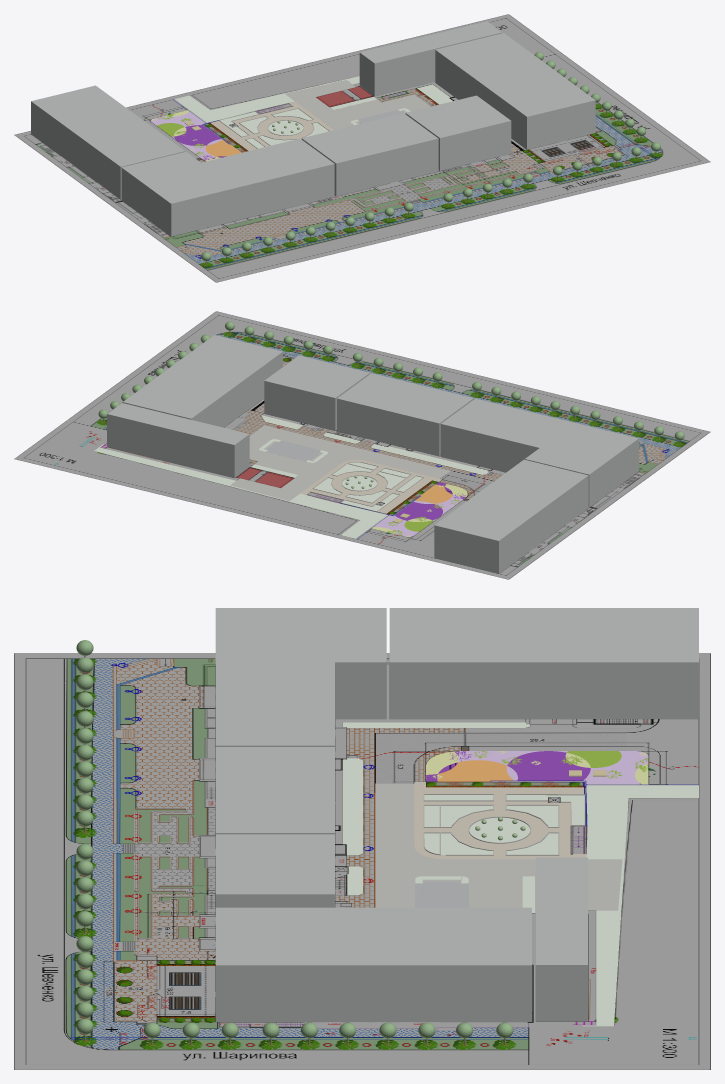
File: palladium_reconstruction_03.glb
3 views of the same model, one above another, from view 1: azimuth 30°, elevation 25°; view 2: azimuth 150°, elevation 25°; view 3: azimuth 270°, elevation 25° (orthographic). The views are drawn at different scales.
Visible parts, largest first — view 1: REFERENCE_PDF_NOT_GEOMETRY, BUILDING_02_01_ENVELOPE_HEIGHT_8M_CONDITIONAL, BUILDING_06_01_ENVELOPE_HEIGHT_8M_CONDITIONAL, BUILDING_01_01_ENVELOPE_HEIGHT_8M_CONDITIONAL, BUILDING_03_01_ENVELOPE_HEIGHT_8M_CONDITIONAL, BUILDING_04_01_ENVELOPE_HEIGHT_8M_CONDITIONAL, BUILDING_05_01_ENVELOPE_HEIGHT_8M_CONDITIONAL, PDF_FILL_GREEN_FILL_MATERIAL_UNCONFIRMED, COURTYARD_PARTIAL_SURFACE_01_INFERRED_SEAM_CONDITIONAL, CENTRAL_PAVING_PART_01_CONDITIONAL, PDF_FILL_PLAY_LILAC_MATERIAL_UNCONFIRMED, PDF_FILL_PLAY_PURPLE_MATERIAL_UNCONFIRMED; view 2: REFERENCE_PDF_NOT_GEOMETRY, BUILDING_02_01_ENVELOPE_HEIGHT_8M_CONDITIONAL, BUILDING_01_01_ENVELOPE_HEIGHT_8M_CONDITIONAL, BUILDING_06_01_ENVELOPE_HEIGHT_8M_CONDITIONAL, BUILDING_03_01_ENVELOPE_HEIGHT_8M_CONDITIONAL, BUILDING_05_01_ENVELOPE_HEIGHT_8M_CONDITIONAL, PDF_FILL_GREEN_FILL_MATERIAL_UNCONFIRMED, COURTYARD_PARTIAL_SURFACE_01_INFERRED_SEAM_CONDITIONAL, BUILDING_04_01_ENVELOPE_HEIGHT_8M_CONDITIONAL, CENTRAL_PAVING_PART_01_CONDITIONAL, PDF_FILL_PLAY_PURPLE_MATERIAL_UNCONFIRMED, PDF_FILL_PLAY_LILAC_MATERIAL_UNCONFIRMED (+2 smaller); view 3: REFERENCE_PDF_NOT_GEOMETRY, BUILDING_06_01_ENVELOPE_HEIGHT_8M_CONDITIONAL, BUILDING_01_01_ENVELOPE_HEIGHT_8M_CONDITIONAL, BUILDING_02_01_ENVELOPE_HEIGHT_8M_CONDITIONAL, PDF_FILL_GREEN_FILL_MATERIAL_UNCONFIRMED, COURTYARD_PARTIAL_SURFACE_01_INFERRED_SEAM_CONDITIONAL, BUILDING_03_01_ENVELOPE_HEIGHT_8M_CONDITIONAL, BUILDING_04_01_ENVELOPE_HEIGHT_8M_CONDITIONAL, BUILDING_05_01_ENVELOPE_HEIGHT_8M_CONDITIONAL, CENTRAL_PAVING_PART_01_CONDITIONAL, PDF_FILL_PLAY_LILAC_MATERIAL_UNCONFIRMED, PDF_FILL_PLAY_PURPLE_MATERIAL_UNCONFIRMED (+4 smaller).
Boxes of the visible parts, x1,y1,x2,y2 form: REFERENCE_PDF_NOT_GEOMETRY: (14, 14, 710, 282); BUILDING_02_01_ENVELOPE_HEIGHT_8M_CONDITIONAL: (121, 138, 334, 236); BUILDING_06_01_ENVELOPE_HEIGHT_8M_CONDITIONAL: (435, 33, 595, 149); BUILDING_01_01_ENVELOPE_HEIGHT_8M_CONDITIONAL: (31, 85, 185, 199); BUILDING_03_01_ENVELOPE_HEIGHT_8M_CONDITIONAL: (301, 113, 438, 196); BUILDING_04_01_ENVELOPE_HEIGHT_8M_CONDITIONAL: (405, 95, 511, 170); BUILDING_05_01_ENVELOPE_HEIGHT_8M_CONDITIONAL: (359, 21, 502, 96); PDF_FILL_GREEN_FILL_MATERIAL_UNCONFIRMED: (174, 76, 452, 148); COURTYARD_PARTIAL_SURFACE_01_INFERRED_SEAM_CONDITIONAL: (285, 80, 430, 129); CENTRAL_PAVING_PART_01_CONDITIONAL: (210, 101, 333, 150); PDF_FILL_PLAY_LILAC_MATERIAL_UNCONFIRMED: (151, 112, 221, 160); PDF_FILL_PLAY_PURPLE_MATERIAL_UNCONFIRMED: (174, 125, 225, 160); REFERENCE_PDF_NOT_GEOMETRY: (14, 311, 710, 579); BUILDING_02_01_ENVELOPE_HEIGHT_8M_CONDITIONAL: (440, 398, 638, 507); BUILDING_01_01_ENVELOPE_HEIGHT_8M_CONDITIONAL: (434, 459, 588, 573); BUILDING_06_01_ENVELOPE_HEIGHT_8M_CONDITIONAL: (122, 335, 282, 427); BUILDING_03_01_ENVELOPE_HEIGHT_8M_CONDITIONAL: (337, 373, 473, 456); BUILDING_05_01_ENVELOPE_HEIGHT_8M_CONDITIONAL: (107, 403, 249, 477); PDF_FILL_GREEN_FILL_MATERIAL_UNCONFIRMED: (94, 415, 488, 538); COURTYARD_PARTIAL_SURFACE_01_INFERRED_SEAM_CONDITIONAL: (230, 425, 450, 500); BUILDING_04_01_ENVELOPE_HEIGHT_8M_CONDITIONAL: (264, 355, 369, 430); CENTRAL_PAVING_PART_01_CONDITIONAL: (300, 460, 441, 513); PDF_FILL_PLAY_PURPLE_MATERIAL_UNCONFIRMED: (395, 482, 465, 520); PDF_FILL_PLAY_LILAC_MATERIAL_UNCONFIRMED: (374, 494, 466, 536); REFERENCE_PDF_NOT_GEOMETRY: (14, 653, 710, 1069); BUILDING_06_01_ENVELOPE_HEIGHT_8M_CONDITIONAL: (215, 907, 531, 1021); BUILDING_01_01_ENVELOPE_HEIGHT_8M_CONDITIONAL: (389, 608, 698, 718); BUILDING_02_01_ENVELOPE_HEIGHT_8M_CONDITIONAL: (215, 608, 386, 746); PDF_FILL_GREEN_FILL_MATERIAL_UNCONFIRMED: (342, 722, 698, 1026); COURTYARD_PARTIAL_SURFACE_01_INFERRED_SEAM_CONDITIONAL: (375, 783, 622, 913); BUILDING_03_01_ENVELOPE_HEIGHT_8M_CONDITIONAL: (215, 747, 334, 834); BUILDING_04_01_ENVELOPE_HEIGHT_8M_CONDITIONAL: (215, 834, 334, 907); BUILDING_05_01_ENVELOPE_HEIGHT_8M_CONDITIONAL: (535, 857, 587, 1021); CENTRAL_PAVING_PART_01_CONDITIONAL: (414, 782, 586, 859); PDF_FILL_PLAY_LILAC_MATERIAL_UNCONFIRMED: (454, 751, 648, 784); PDF_FILL_PLAY_PURPLE_MATERIAL_UNCONFIRMED: (426, 751, 590, 781).
Bounding box in the file's own units: 126 × 8.02 × 89.15.
1 material, 1 textured.
